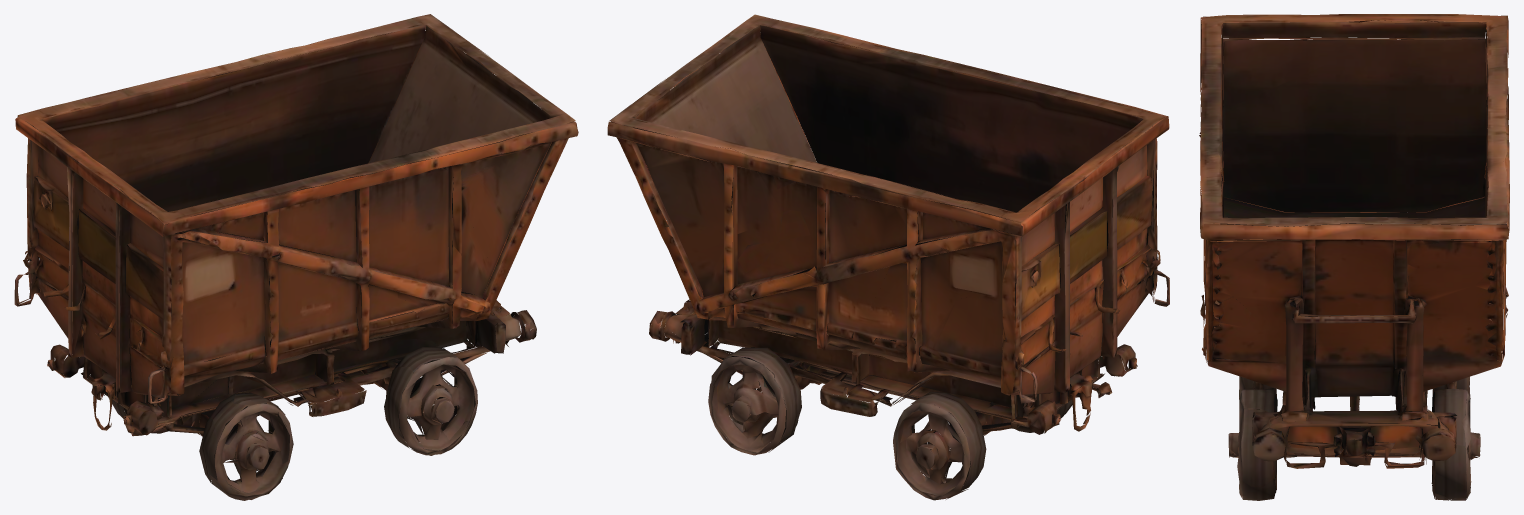
The model's file is carro_volteo.glb.
The picture shows the model from 3 angles, left to right: view 1: azimuth 30°, elevation 25°; view 2: azimuth 150°, elevation 25°; view 3: azimuth 270°, elevation 25°; orthographic projection. The views are drawn at different scales.
Parts seen in each view (by area): view 1: geometry_0; view 2: geometry_0; view 3: geometry_0.
Boxes of the visible parts, <box> form: geometry_0: <box>14,14,578,500</box>; geometry_0: <box>607,14,1169,500</box>; geometry_0: <box>1199,14,1509,500</box>.
Bounding box in the file's own units: 1.8 × 1.31 × 1.1.
1 material, 1 textured.
